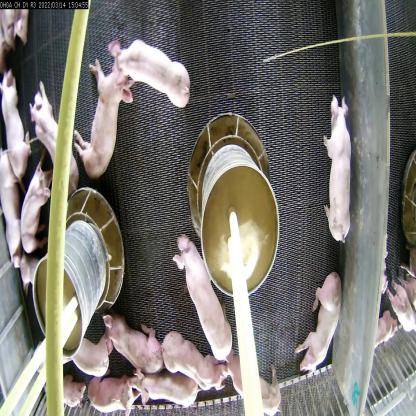Pig: (74, 63, 138, 191), (173, 228, 234, 361), (317, 91, 358, 246), (31, 80, 82, 196), (117, 33, 190, 113), (296, 272, 347, 382), (160, 324, 226, 394), (0, 62, 36, 180), (17, 168, 60, 262), (223, 353, 284, 416), (104, 310, 164, 372), (70, 327, 121, 385), (83, 370, 133, 415), (139, 374, 198, 410)
